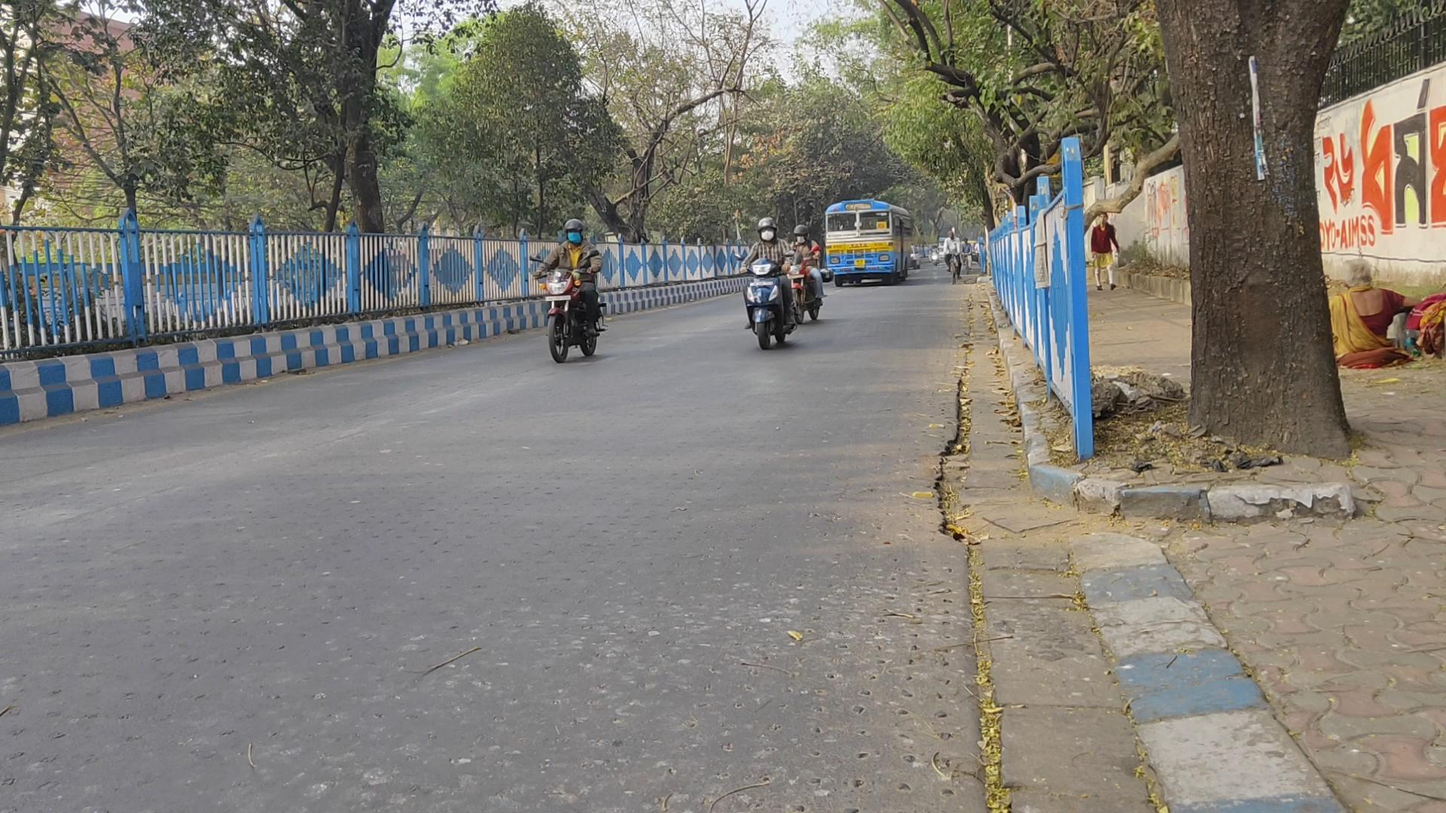Bus: (823, 199, 913, 288)
bike: (532, 216, 611, 366), (744, 217, 798, 351), (790, 225, 827, 327), (944, 229, 963, 285)
